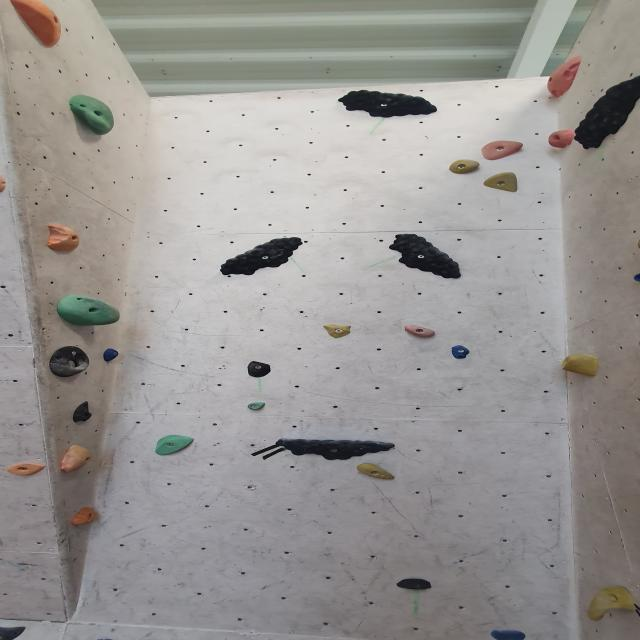Crimp: (544, 56, 586, 99), (155, 434, 195, 454), (4, 462, 46, 477), (401, 323, 439, 339), (70, 508, 100, 528), (319, 322, 354, 338), (396, 578, 436, 592), (242, 361, 277, 376), (449, 346, 472, 360), (100, 348, 122, 362), (248, 401, 268, 411)
Jug: (575, 72, 640, 150), (214, 236, 304, 276), (334, 84, 438, 118), (390, 233, 466, 279), (268, 434, 400, 460), (66, 94, 118, 137), (579, 584, 636, 623), (475, 137, 526, 162), (486, 173, 524, 197), (444, 158, 481, 175)
Pinch: (42, 222, 86, 254), (58, 445, 94, 475), (352, 461, 396, 482)
Pocket: (47, 346, 95, 378), (561, 353, 602, 378)
Sloper: (7, 0, 65, 48), (53, 296, 122, 328), (546, 129, 576, 150)
